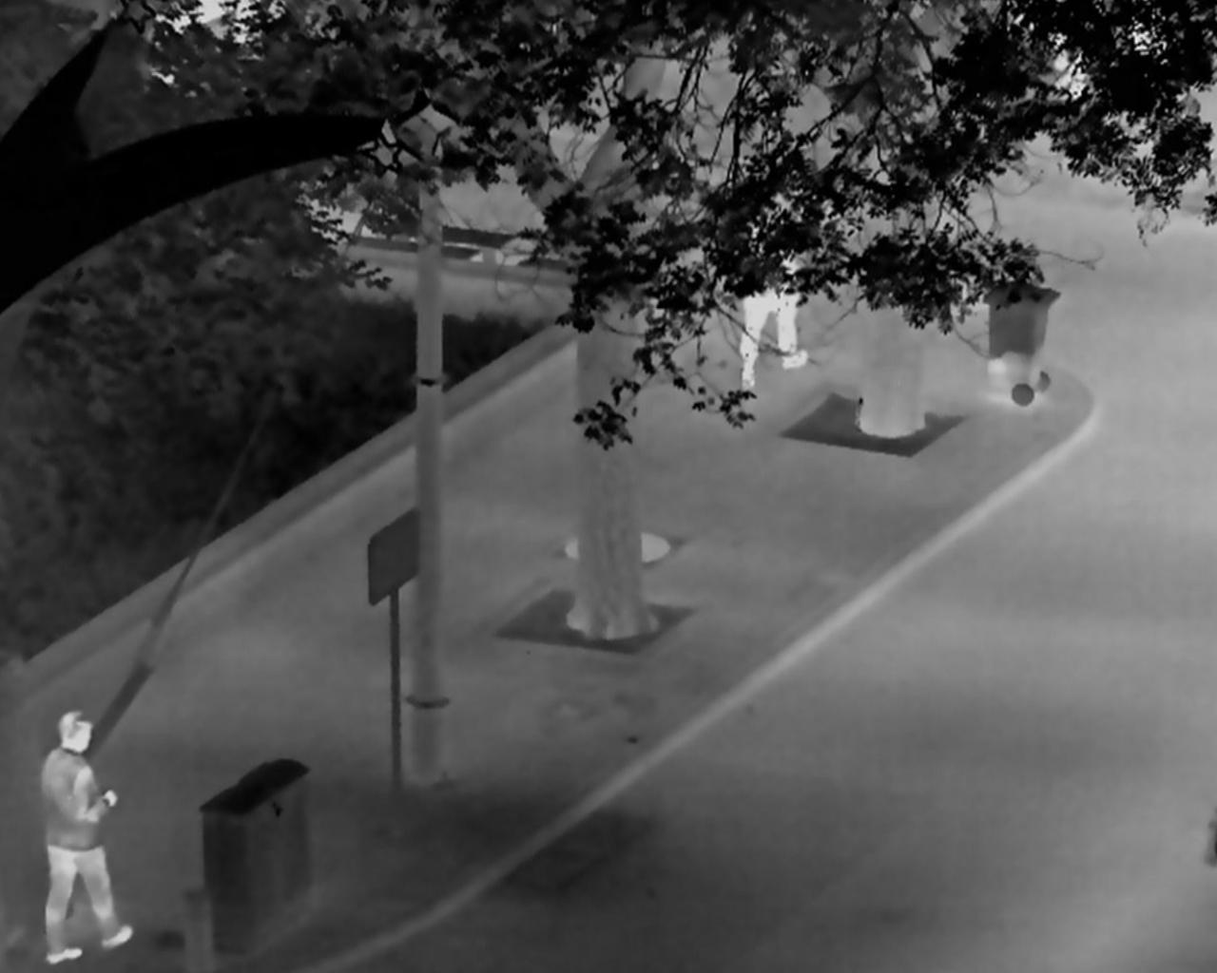person: (39, 709, 135, 963), (740, 178, 809, 396)
